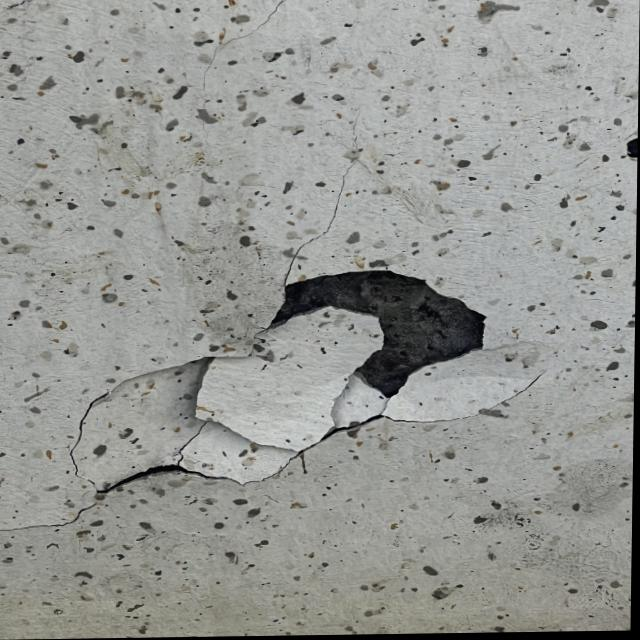spalling: (9, 168, 580, 547)
